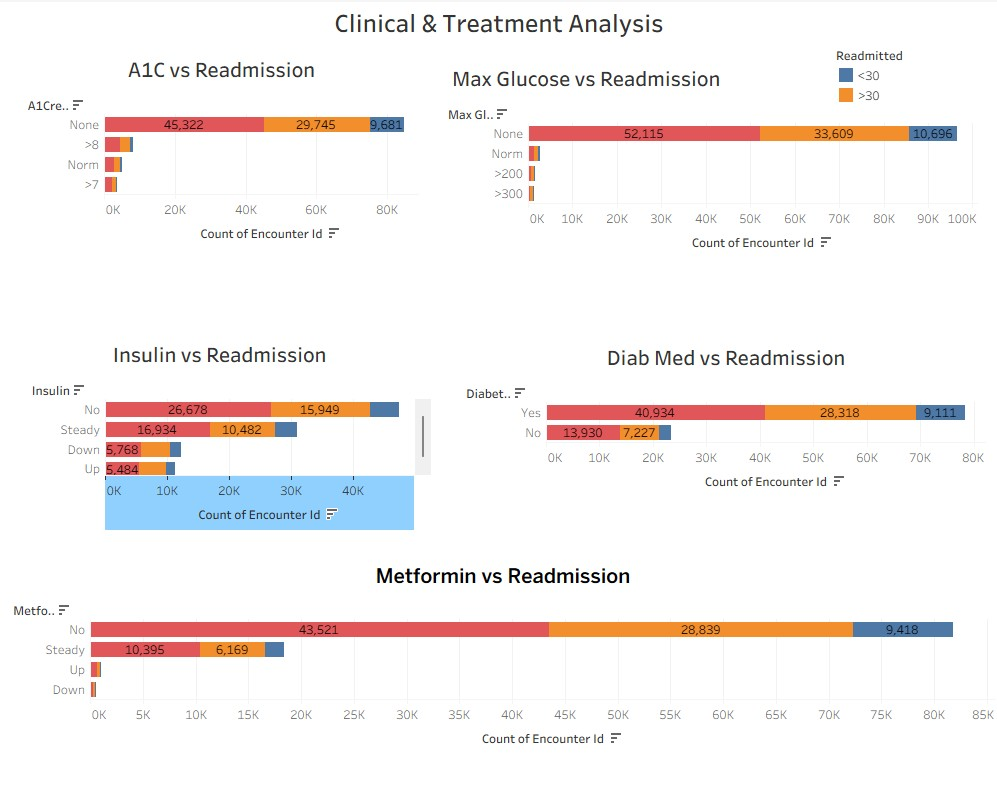

Layout of this report page (visuals, bound fields, positions):
{"tool":"tableau","page":{"name":"Clinical & Treatment Analysis","canvas":[1000,800],"ordinal":0},"visuals":[{"type":"title","box":[0,0,1000,41]},{"type":"legend","title":"Diab Med vs Readmission","param":"[federated.0oflpi203zwt6210qwj6h0exc8m3].[none:readmitted:nk]","box":[833,41,167,86]},{"type":"worksheet","title":"A1C vs Readmission","mark":"Automatic","rows":["A1Cresult"],"cols":["encounter_id"],"box":[25,49,395,266]},{"type":"worksheet","title":"Max Glucose vs Readmission","mark":"Automatic","rows":["max_glu_serum"],"cols":["encounter_id"],"box":[449,58,530,266]},{"type":"worksheet","title":"Insulin vs Readmission","mark":"Automatic","rows":["insulin"],"cols":["encounter_id"],"box":[26,334,406,194]},{"type":"worksheet","title":"Diab Med vs Readmission","mark":"Automatic","rows":["diabetesMed"],"cols":["encounter_id"],"box":[467,337,520,186]},{"type":"worksheet","title":"Metformin vs Readmission","mark":"Automatic","rows":["metformin"],"cols":["encounter_id"],"box":[11,558,986,222]}]}

Visuals, with their boxes in screenshot pixels (x1, y1, x2, y2), scaled from the page's 1000x800 canvas onto the 997x797 screenshot:
title: box=[0, 0, 996, 41]
"Diab Med vs Readmission" legend: box=[831, 41, 996, 127]
"A1C vs Readmission" worksheet: box=[25, 49, 419, 314]
"Max Glucose vs Readmission" worksheet: box=[448, 58, 976, 323]
"Insulin vs Readmission" worksheet: box=[26, 333, 431, 526]
"Diab Med vs Readmission" worksheet: box=[466, 336, 984, 521]
"Metformin vs Readmission" worksheet: box=[11, 556, 994, 777]
